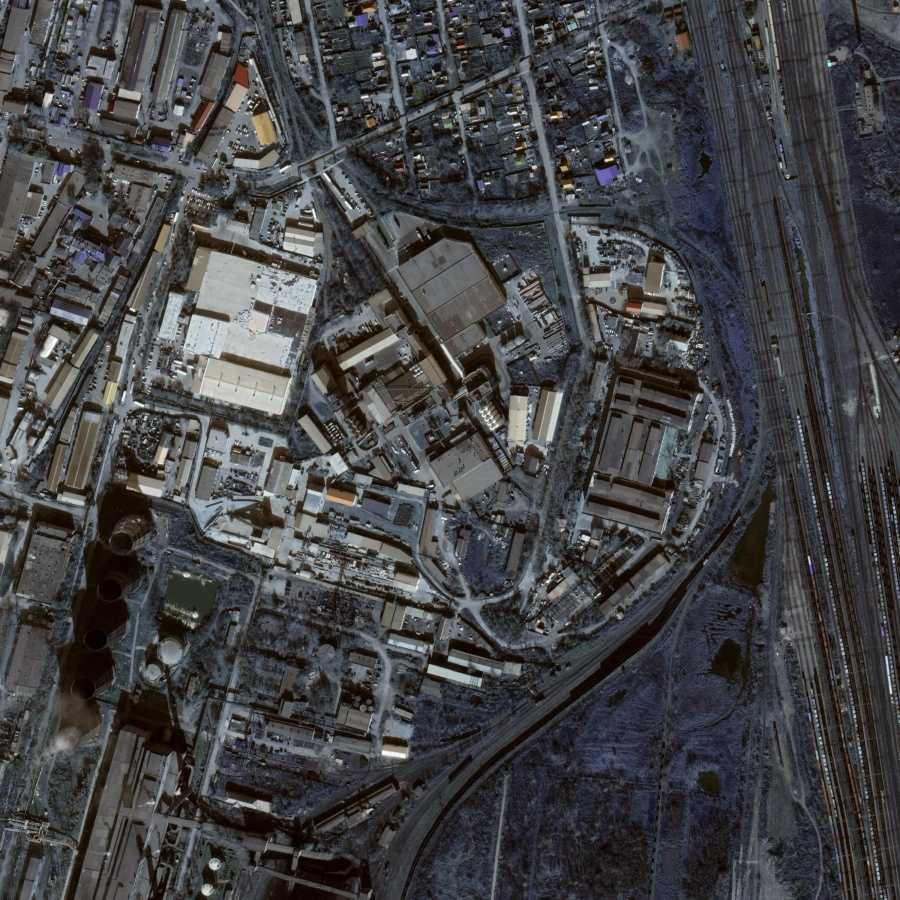PowerPlant: (25, 466, 195, 805)
